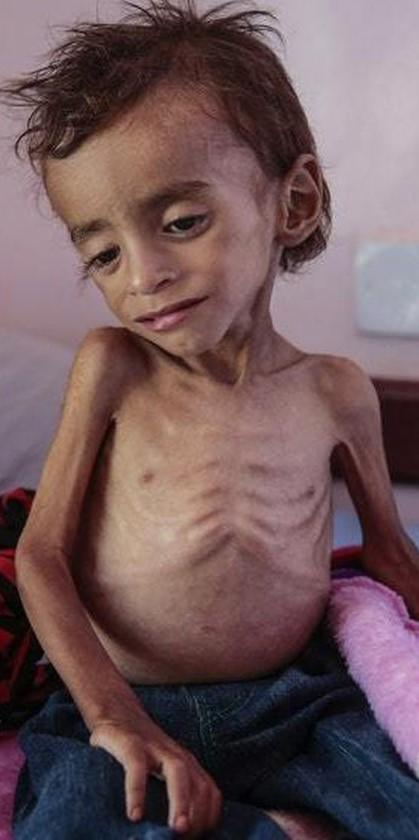Stunting: (30, 2, 326, 368)
